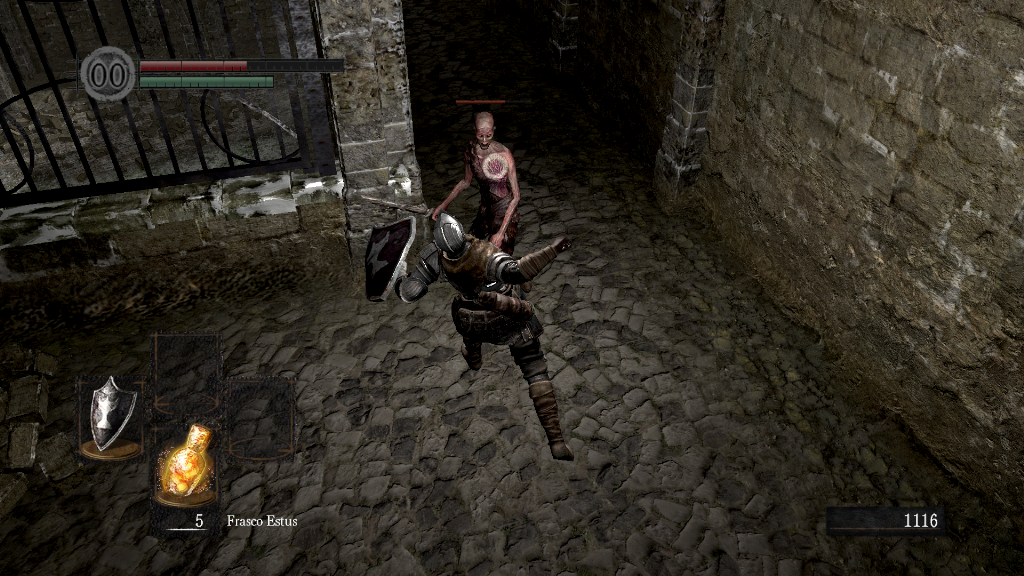health: (138, 58, 343, 71)
hollow: (429, 115, 520, 250)
humanity: (80, 45, 136, 102)
player: (357, 193, 578, 462)
souls: (825, 506, 945, 536)
stamina: (138, 74, 274, 88)
